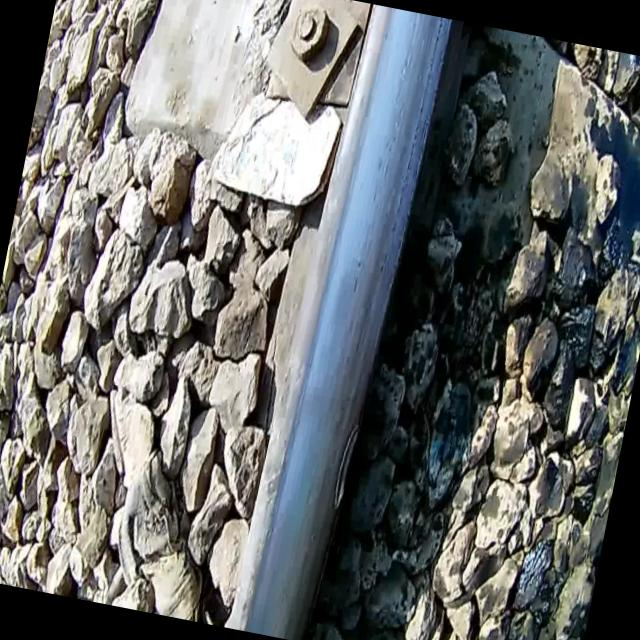Shellings: (372, 14, 446, 296)
Squats: (324, 412, 366, 522)
